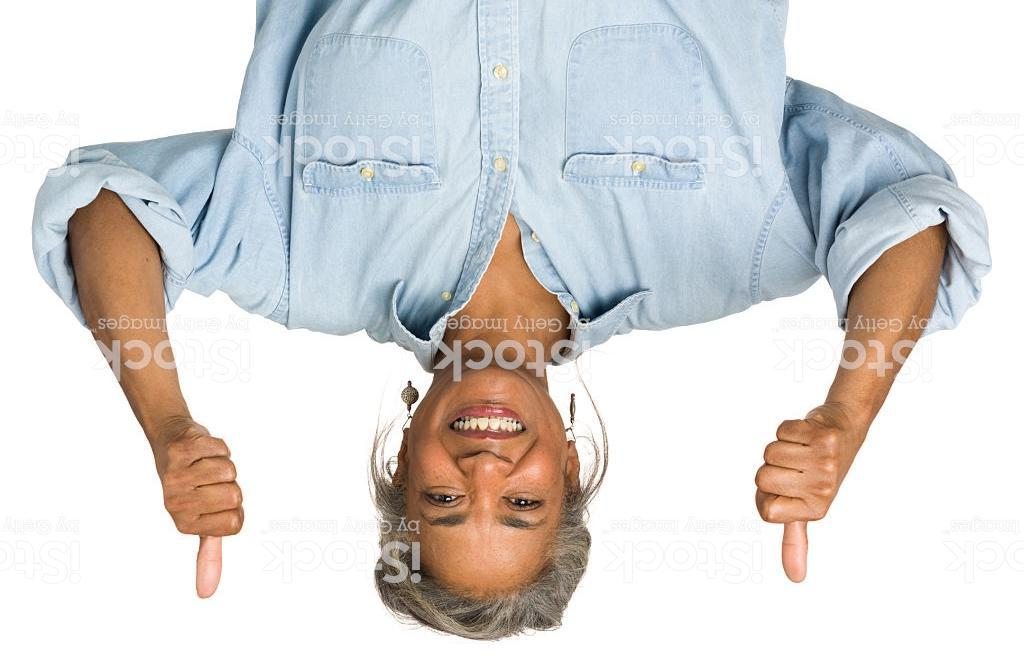thumbsdown: (159, 431, 244, 601), (755, 419, 841, 584)
